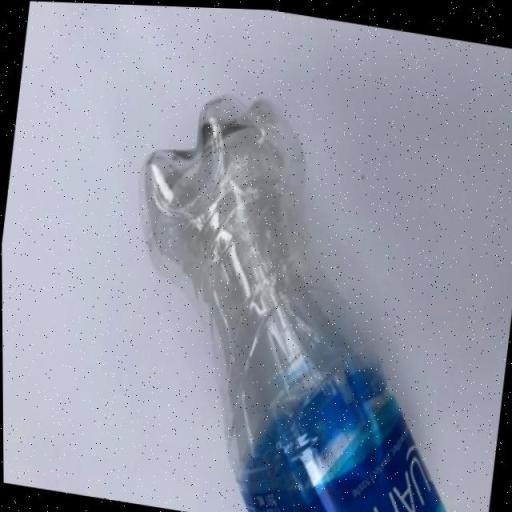plastic: (141, 94, 449, 512)
